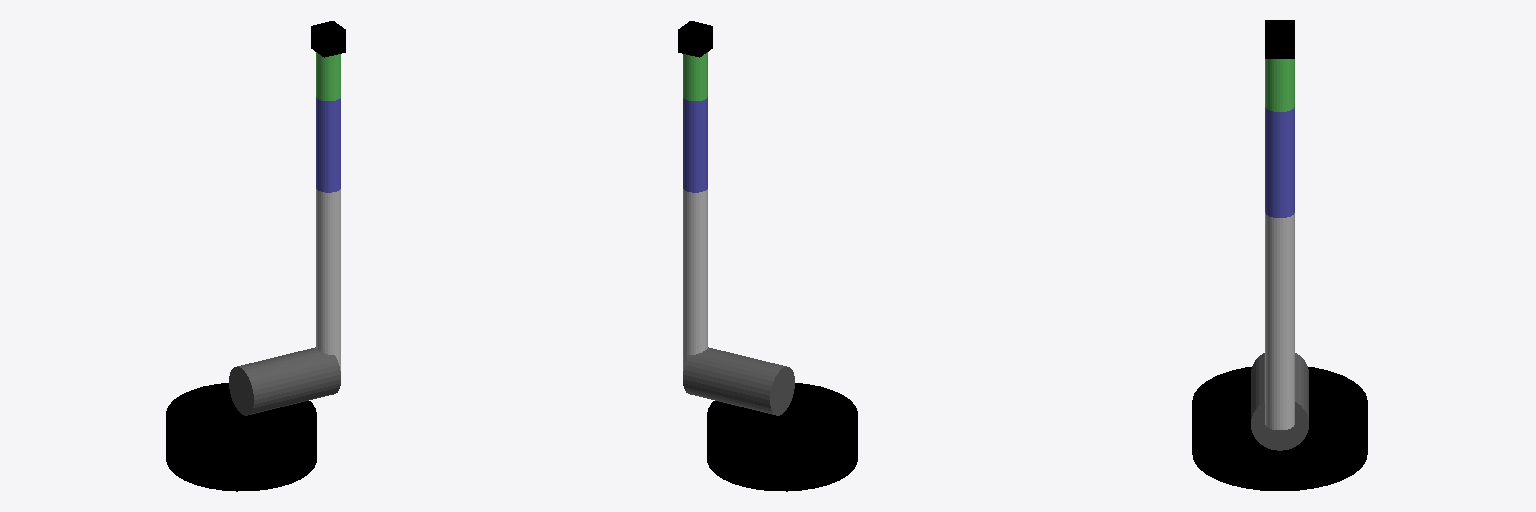
The robot description file, URDF, robot "bender":
<robot name="bender">

    <material name="black">
        <color rgba="0 0 0 1"/>
    </material>

    <material name="gray">
        <color rgba="0.4 0.4 0.4 1"/>
    </material>

    <material name="light gray">
        <color rgba="0.8 0.8 0.8 1"/>
    </material>

    <material name="light green">
        <color rgba="0.4 0.8 0.4 1"/>
    </material>

    <material name="light blue">
        <color rgba="0.4 0.4 0.8 1"/>
    </material>

    <material name="light red">
        <color rgba="0.8 0.4 0.4 1"/>
    </material>

    <link name="world"/>
    <link name="base">
        <visual>
            <geometry>
                <cylinder radius="0.3" length="0.2"/>   
            </geometry>
            <material name="black"/>
        </visual>
    </link>

    <link name="link_1">
        <visual>
            <geometry>
                <cylinder radius="0.1" length="0.4"/>   
            </geometry>
            <origin xyz="0.0 0 0.2" rpy="0 0 0" />
            <material name="gray"/>
        </visual>
    </link>

    <link name="link_2">
        <visual>
            <geometry>
                <cylinder radius="0.05" length="0.8"/>   
            </geometry>
            <origin xyz="0 0 0.4" rpy="0 0 0" />
            <material name="light gray"/>
        </visual>
    </link>

    <link name="link_3"/>

    <link name="link_4">
        <visual>
            <geometry>
                <cylinder radius="0.05" length="0.4"/>   
            </geometry>
            <origin xyz="0 0 0.2" rpy="0 0 0" />
            <material name="light blue"/>
        </visual>
    </link>

    <link name="link_5">
        <visual>
            <geometry>
                <cylinder radius="0.05" length="0.2"/>   
            </geometry>
            <origin xyz="0 0 0.1" rpy="0 0 0" />
            <material name="light green"/>
        </visual>
    </link>

    <link name="link_6"/>

    <link name="link_eef">
        <visual>
            <geometry>
                <box size="0.1 0.1 0.1"/>   
            </geometry>
            <origin xyz="0 0 0.05" rpy="0 0 0" />
            <material name="black"/>
        </visual>
    </link>

    <joint name="world_to_base" type="fixed">
        <parent link="world"/>
        <child link="base"/>     
        <origin xyz="0 0 0.1" rpy="0 0 0"/>
    </joint>

    <joint name="joint_1" type="revolute">
        <parent link="base"/>
        <child link="link_1"/>
        <origin xyz="0.0 0 0.2" rpy="0 1.57 0"/>
        <limit lower="-3.15" upper="3.15"/>
        <axis xyz="1 0 0"/>
    </joint>

    <joint name="joint_2" type="revolute">
        <parent link="link_1"/>
        <child link="link_2"/>
        <origin xyz="0 0 0.4" rpy="0 -1.57 0"/>
        <limit lower="-3.15" upper="3.15"/>
        <axis xyz="0 1 0"/>
    </joint>

    <joint name="joint_3" type="revolute">
        <parent link="link_2"/>
        <child link="link_3"/>
        <origin xyz="0 0 0.8" rpy="0 0 0"/>
        <limit lower="-3.15" upper="3.15"/>
        <axis xyz="0 1 0"/>
    </joint>

    <joint name="joint_4" type="revolute">
        <parent link="link_3"/>
        <child link="link_4"/>
        <origin xyz="0 0 0" rpy="0 0 0"/>
        <limit lower="-3.15" upper="3.15"/>
        <axis xyz="0 0 1"/>
    </joint>

    <joint name="joint_5" type="revolute">
        <parent link="link_4"/>
        <child link="link_5"/>
        <origin xyz="0 0 0.4" rpy="0 0 0"/>
        <limit lower="-3.15" upper="3.15"/>
        <axis xyz="0 1 0"/>
    </joint>

    <joint name="joint_6" type="revolute">
        <parent link="link_5"/>
        <child link="link_6"/>
        <origin xyz="0 0 0" rpy="0 0 0"/>
        <limit lower="-3.15" upper="3.15"/>
        <axis xyz="0 0 1"/>
    </joint>

    <joint name="joint_eef" type="fixed">
        <parent link="link_6"/>
        <child link="link_eef"/>     
        <origin xyz="0 0 0.2" rpy="0 0 0"/>
    </joint>
</robot>

--- What the picture shows (computed from the rendered views, not written in the file) ---
The picture shows the robot from 3 angles, left to right: view 1: azimuth 30°, elevation 25°; view 2: azimuth 150°, elevation 25°; view 3: azimuth 270°, elevation 25°; orthographic projection.
Robot: bender — 9 links, 8 joints (6 revolute, 2 fixed); root link world; default pose: every joint at zero.
Visible links, largest first — view 1: base, link_1, link_2, link_4, link_5, link_eef; view 2: base, link_1, link_2, link_4, link_5, link_eef; view 3: base, link_2, link_4, link_1, link_5, link_eef.
Boxes of the visible links, x1,y1,x2,y2 form: base: (166, 383, 316, 491); link_1: (229, 347, 340, 415); link_2: (316, 189, 340, 370); link_4: (316, 97, 340, 192); link_5: (316, 52, 340, 100); link_eef: (311, 21, 345, 57); base: (707, 383, 857, 491); link_1: (683, 347, 794, 415); link_2: (683, 189, 707, 370); link_4: (683, 97, 707, 192); link_5: (683, 52, 707, 100); link_eef: (678, 21, 712, 57); base: (1192, 367, 1367, 490); link_2: (1265, 213, 1294, 429); link_4: (1265, 107, 1294, 217); link_1: (1251, 353, 1308, 450); link_5: (1265, 59, 1294, 111); link_eef: (1265, 20, 1294, 58).
Bounding box of the posed robot: 0.75 × 0.6 × 1.8 m (x, y, z).
Geometry: primitives only (box / cylinder / sphere), no mesh files.
